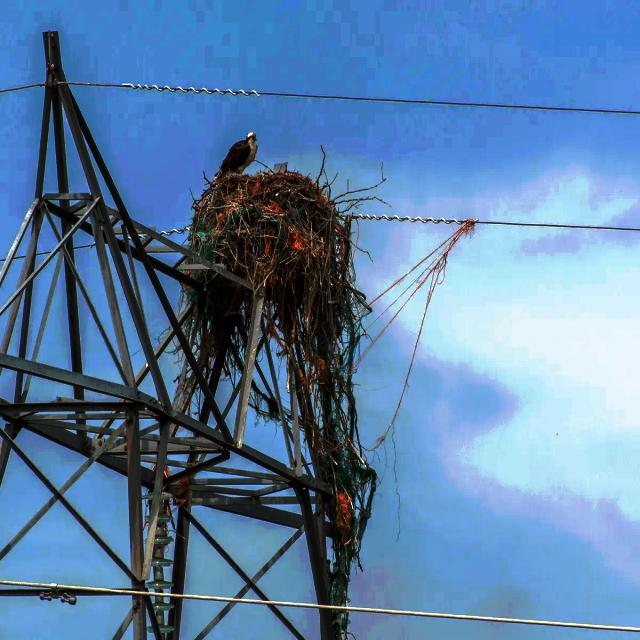obstruction: (182, 136, 375, 639)
poles: (5, 444, 128, 602), (5, 140, 82, 373), (88, 201, 174, 368), (36, 30, 109, 197), (2, 368, 125, 458), (119, 398, 169, 582)
wires: (87, 82, 634, 116), (460, 220, 636, 233)
